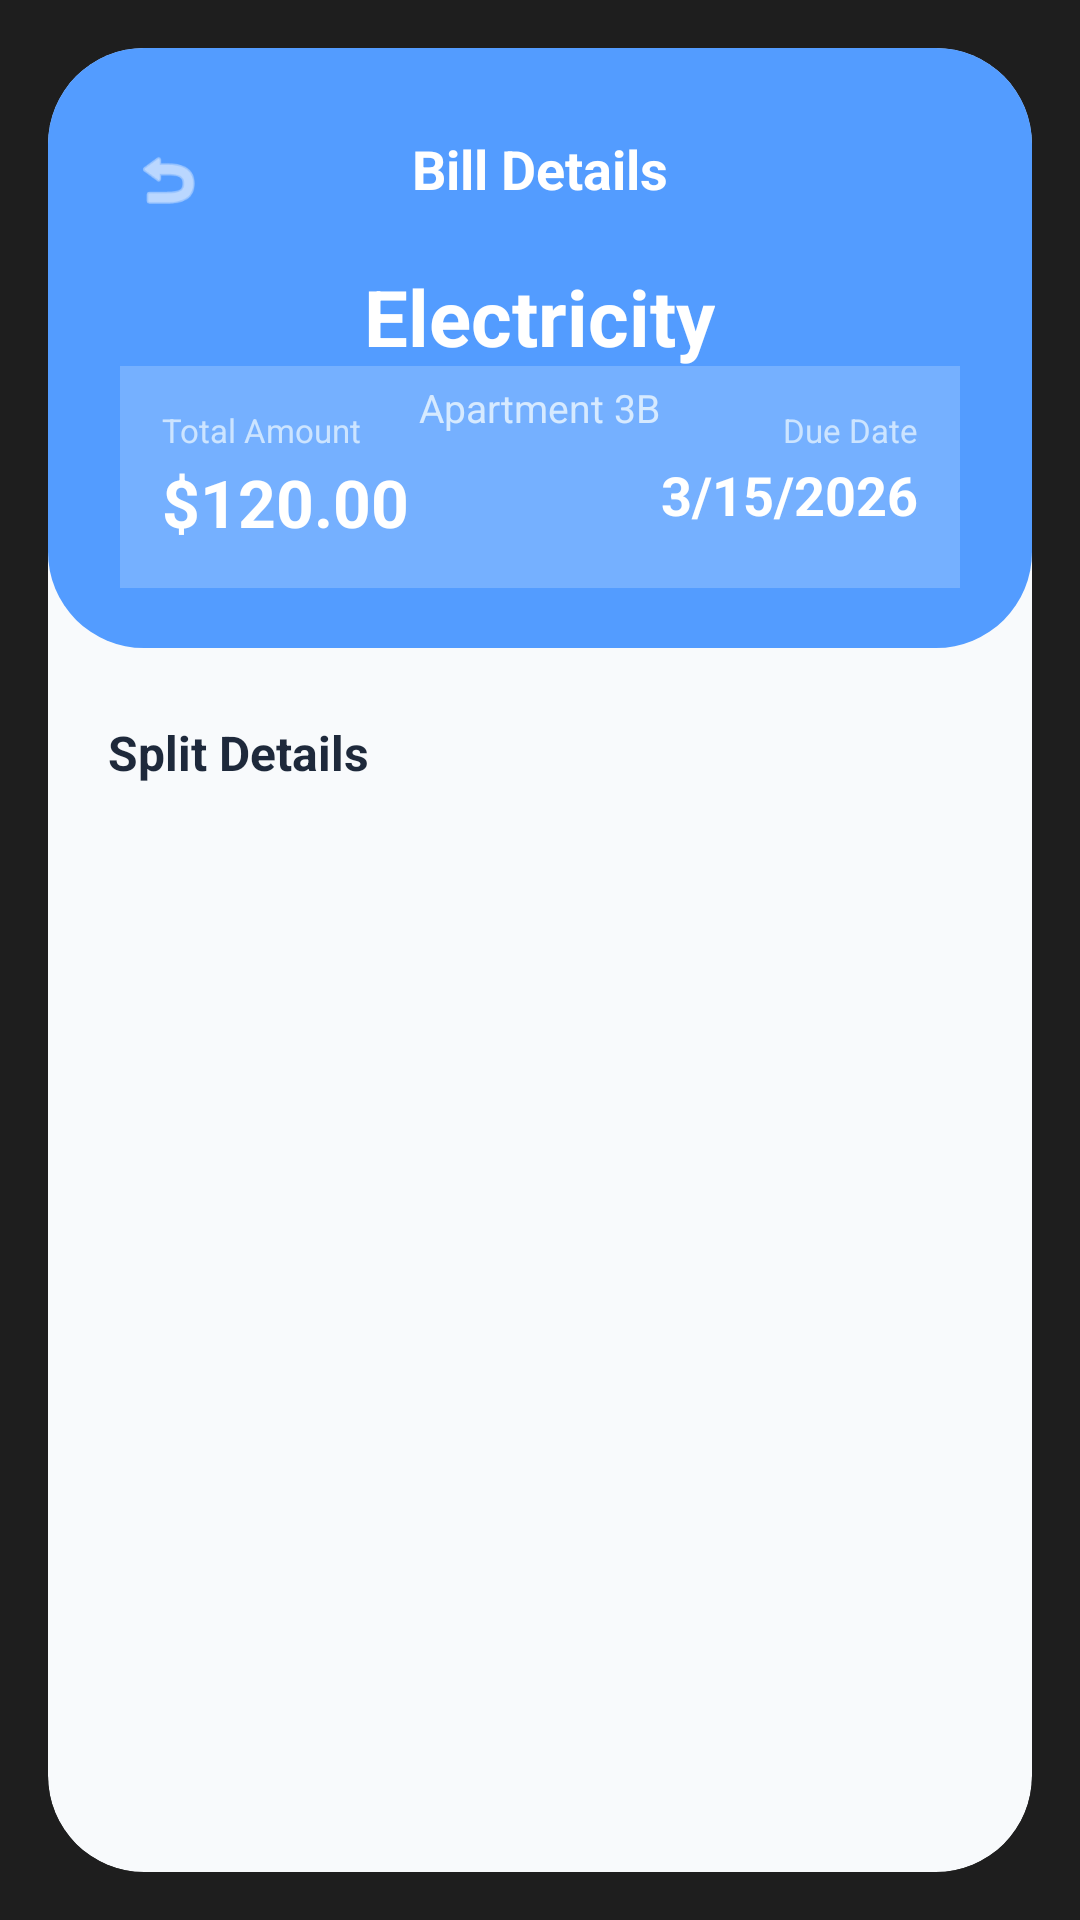

Icons on this 1080x1920 Android screen, each with its box as {"x1": x1, "y1": y1, "x2": x2, "y2": y2}:
revert: {"x1": 143, "y1": 157, "x2": 195, "y2": 204}
